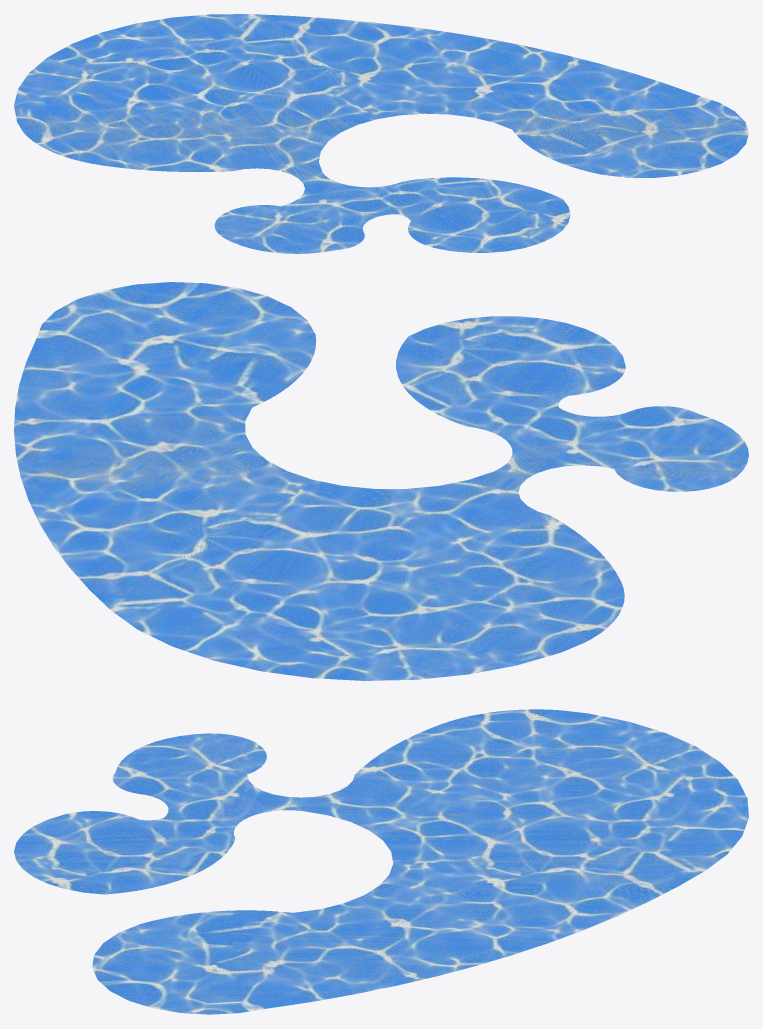
The model's file is lake.obj.
3 views of the same model, one above another, from view 1: azimuth 30°, elevation 25°; view 2: azimuth 150°, elevation 25°; view 3: azimuth 270°, elevation 25° (orthographic). The views are drawn at different scales.
Parts seen in each view (by area): view 1: Mesh1 Model; view 2: Mesh1 Model; view 3: Mesh1 Model.
Boxes of the visible parts, x1,y1,x2,y2 form: Mesh1 Model: (14,14,748,253); Mesh1 Model: (14,282,748,680); Mesh1 Model: (14,709,748,1014).
Size of the model in its own units: 1423 by 0 by 1448.
2 materials, 1 textured.
